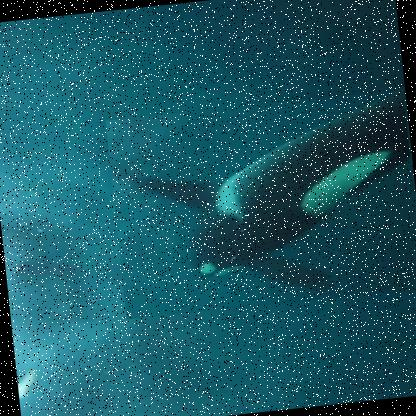killer_whale: (105, 87, 415, 319)
